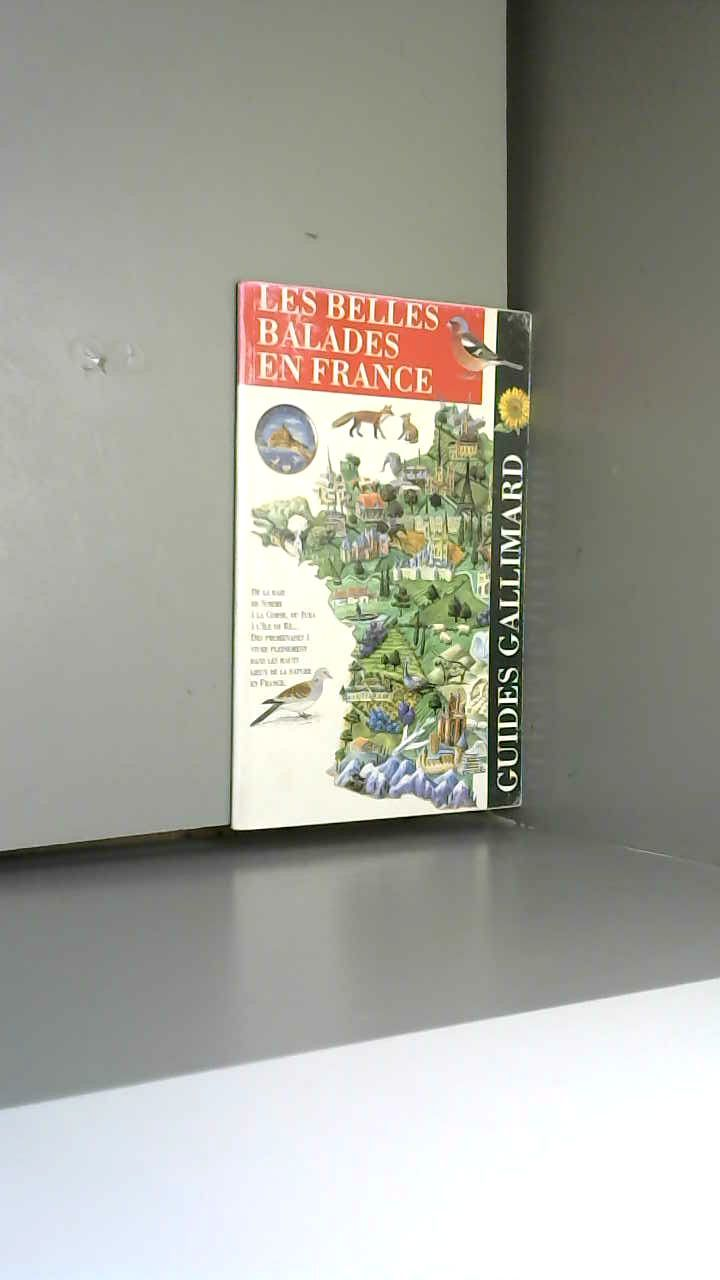book: (184, 236, 578, 883)
